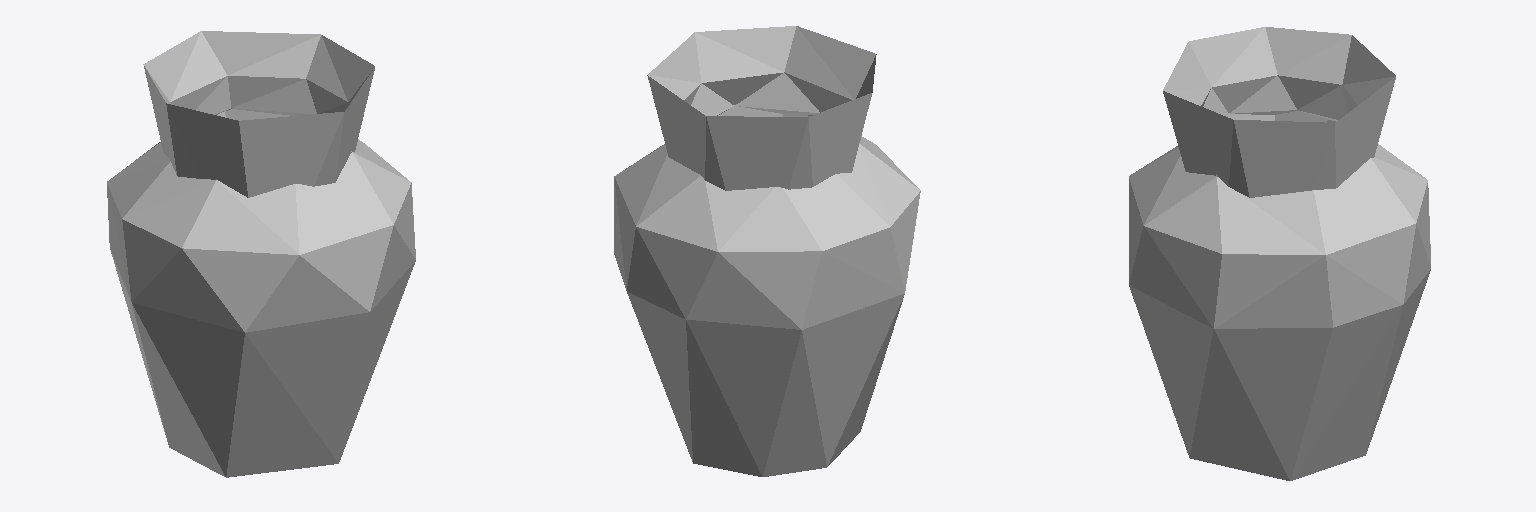
File: pot.obj
The picture shows the model from 3 angles: view 1: azimuth 30°, elevation 25°; view 2: azimuth 150°, elevation 25°; view 3: azimuth 270°, elevation 25°; orthographic projection.
Visible parts, largest first — view 1: Cylinder; view 2: Cylinder; view 3: Cylinder.
Part boxes in pixels (bbox=[...]): Cylinder: bbox=[107, 31, 415, 477]; Cylinder: bbox=[614, 26, 920, 476]; Cylinder: bbox=[1129, 27, 1430, 480].
Bounding box in the file's own units: 1.64 × 2.2 × 1.64.